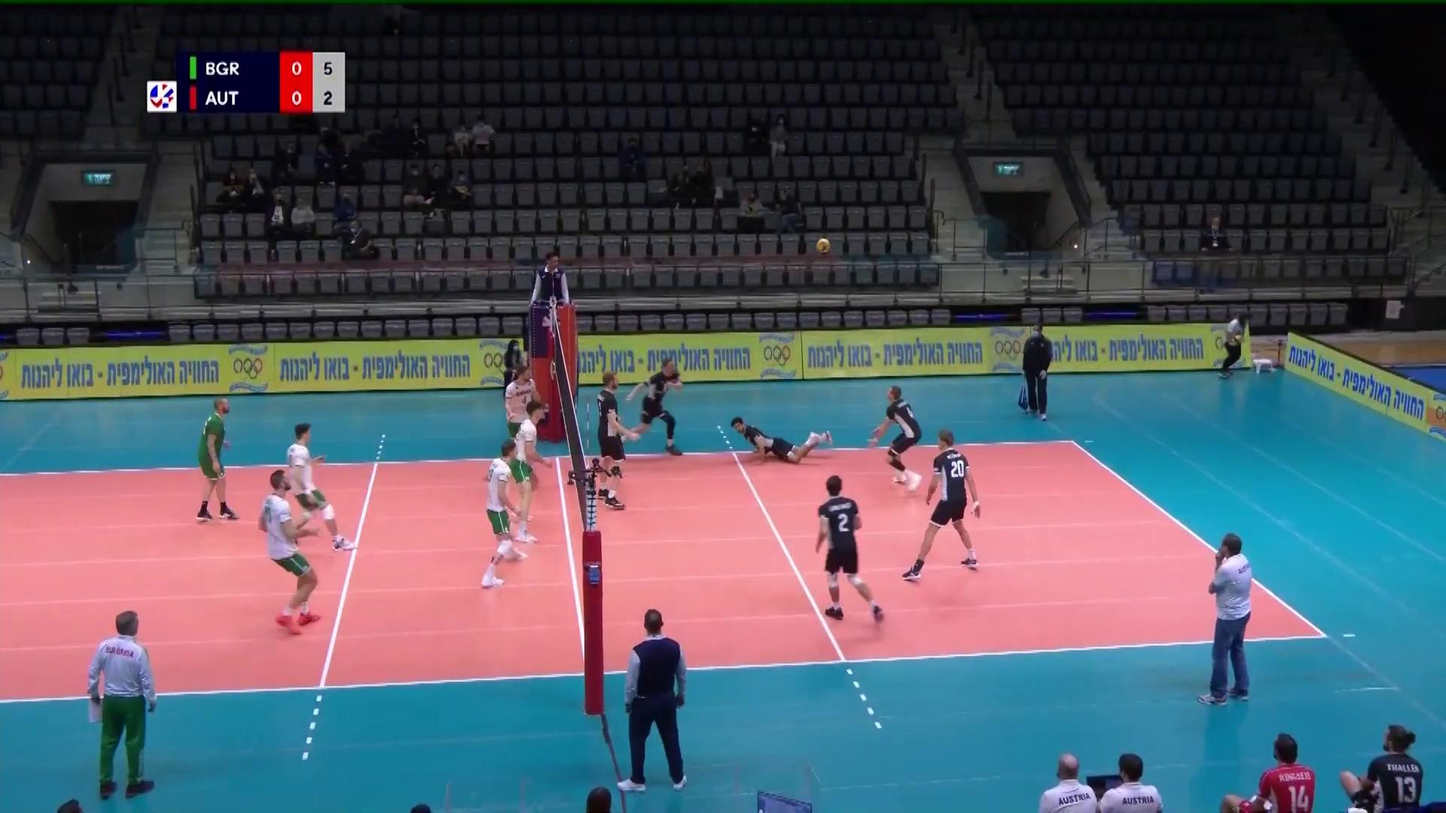ball: (816, 238, 831, 253)
